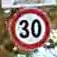limite 30: (8, 6, 51, 50)
